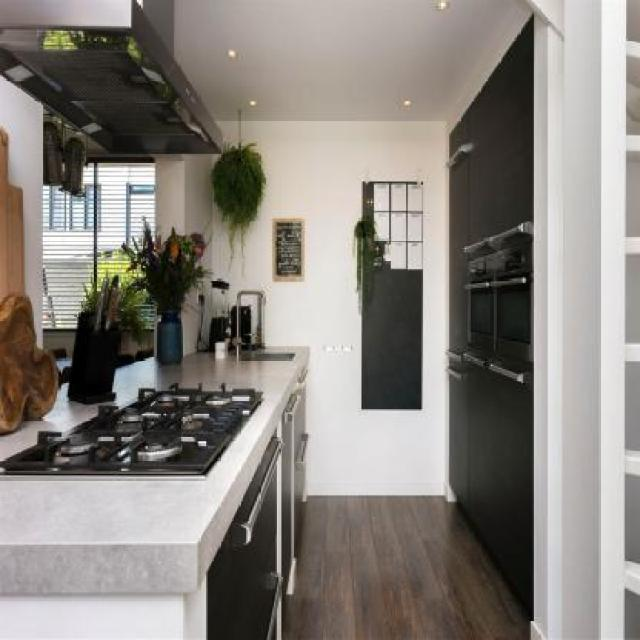floor: (287, 492, 535, 640)
